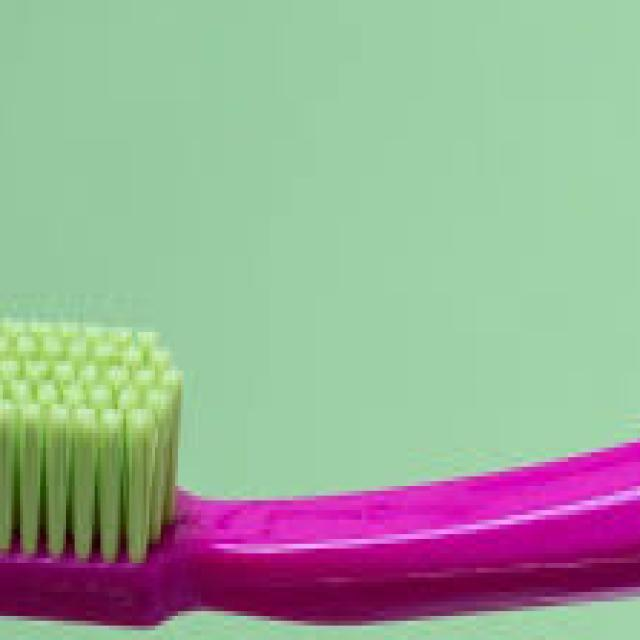organic: (6, 306, 629, 624)
